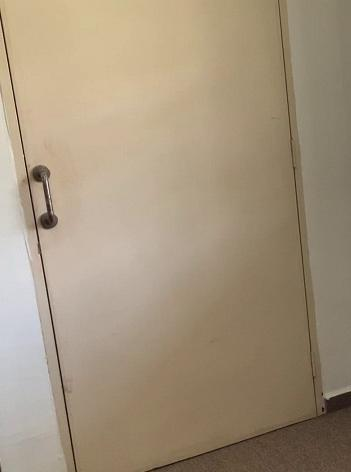door: (0, 0, 336, 457)
